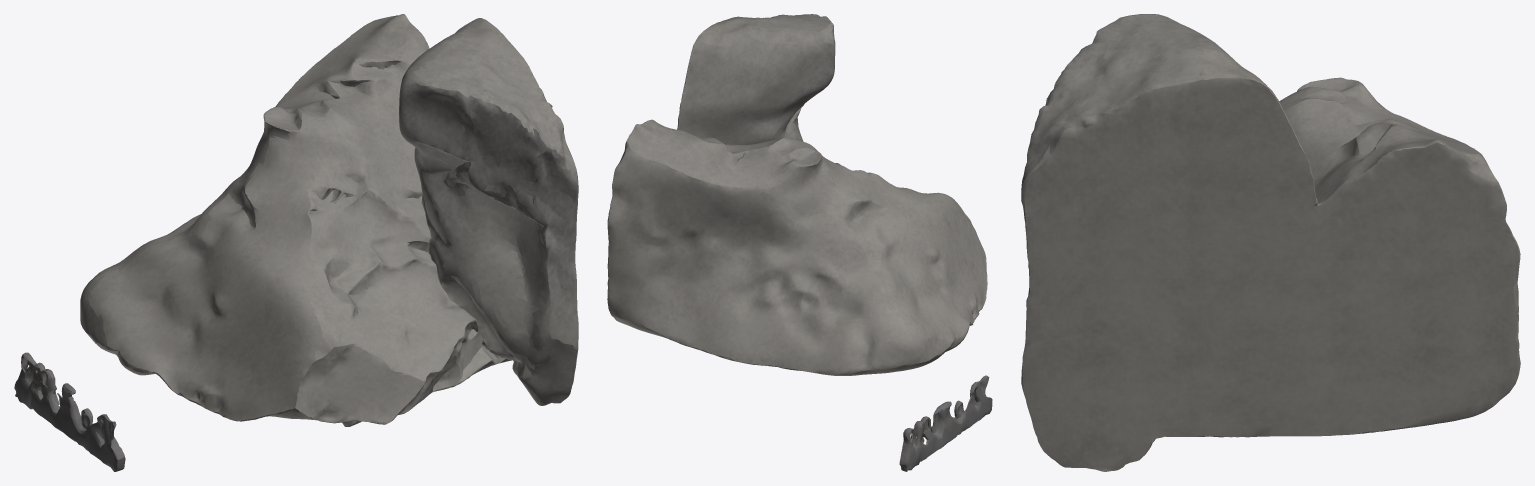
Rendered from rejected-6339854.glb.
The picture shows the model from 3 angles, left to right: view 1: azimuth 30°, elevation 25°; view 2: azimuth 150°, elevation 25°; view 3: azimuth 270°, elevation 25°; orthographic projection. The views are drawn at different scales.
Visible parts, largest first — view 1: world; view 2: world; view 3: world.
Boxes of the visible parts, x1=… form: world: x1=14, y1=14, x2=578, y2=471; world: x1=607, y1=14, x2=992, y2=471; world: x1=1021, y1=14, x2=1520, y2=471.
Bounding box in the file's own units: 0.35 × 0.3482 × 0.3508.
Materials: 1 (1 with a texture image).
